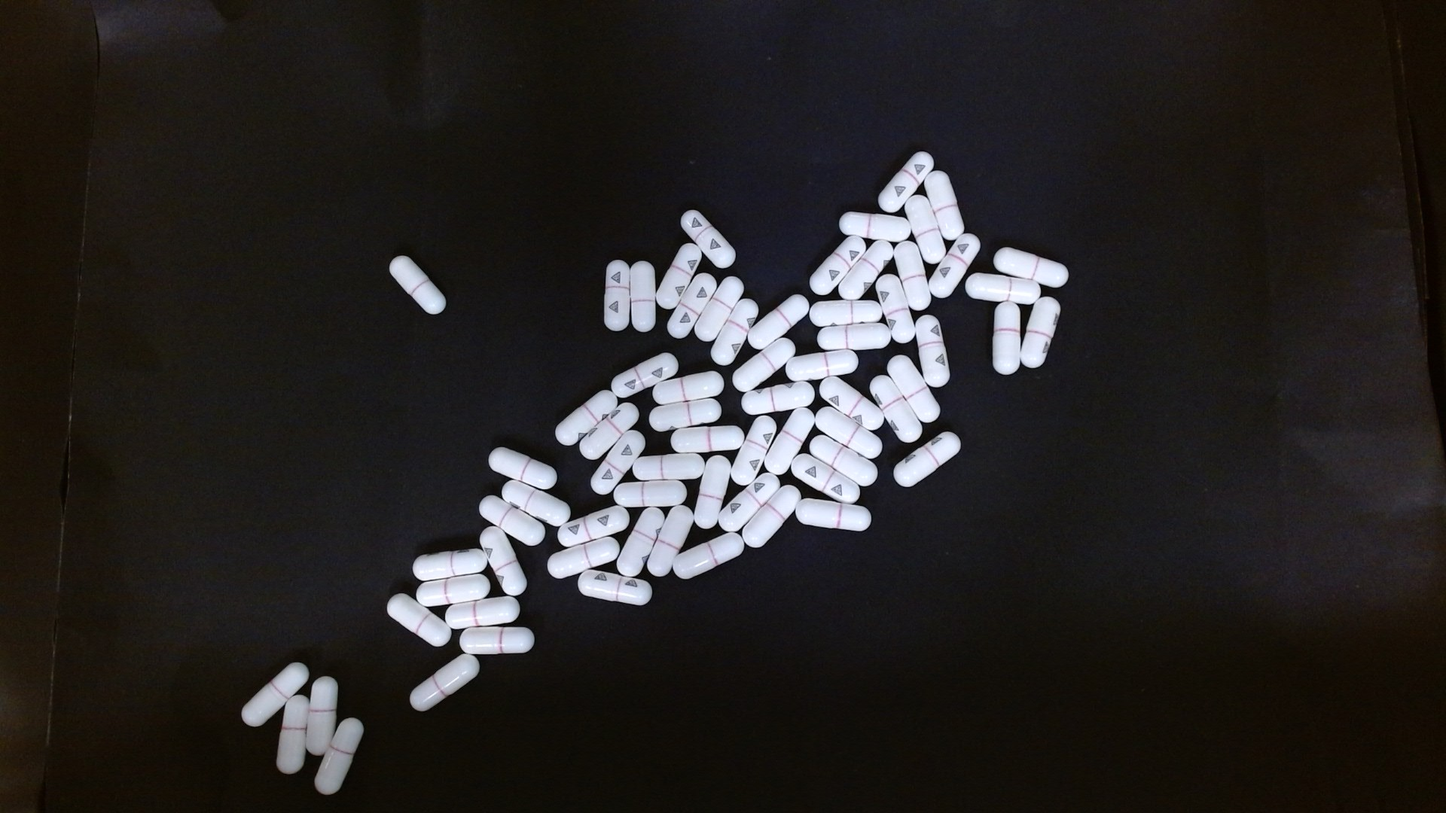Capsule: (239, 661, 307, 728), (740, 294, 810, 358), (410, 650, 481, 711), (739, 483, 803, 550), (477, 495, 554, 550), (589, 428, 648, 498), (715, 471, 779, 534), (819, 374, 887, 433), (729, 336, 798, 394), (554, 389, 621, 448), (892, 430, 960, 488), (693, 276, 745, 351), (791, 451, 863, 505), (886, 355, 942, 424), (761, 407, 817, 476), (809, 433, 880, 487), (807, 234, 868, 296), (386, 592, 453, 648), (578, 402, 640, 462), (838, 239, 897, 302), (707, 298, 761, 366), (870, 374, 923, 443), (616, 504, 666, 577), (928, 232, 983, 298), (664, 272, 719, 338), (813, 401, 880, 455), (878, 151, 935, 214), (388, 254, 446, 315), (645, 504, 693, 576), (671, 534, 746, 580), (316, 718, 362, 793), (611, 351, 682, 399), (732, 413, 779, 485), (480, 525, 529, 594), (992, 245, 1070, 288), (547, 534, 621, 579), (487, 446, 558, 492), (657, 240, 702, 312), (874, 273, 918, 345), (556, 506, 630, 548), (500, 479, 566, 526), (683, 209, 737, 266), (690, 456, 731, 530), (904, 193, 947, 263), (923, 169, 963, 243), (276, 690, 310, 774), (892, 239, 931, 312), (1022, 297, 1060, 370), (651, 370, 725, 407), (915, 315, 952, 389), (304, 675, 337, 757), (795, 498, 871, 533), (578, 569, 650, 605), (785, 348, 859, 382), (414, 549, 490, 582), (965, 272, 1042, 304), (647, 399, 724, 431), (446, 597, 523, 629), (416, 574, 490, 607), (741, 382, 813, 415), (816, 322, 893, 352), (632, 453, 711, 482), (460, 626, 535, 656), (614, 479, 691, 508), (839, 211, 911, 242), (809, 298, 884, 327), (603, 258, 632, 331), (991, 301, 1020, 374), (630, 260, 658, 332), (670, 425, 744, 452)
